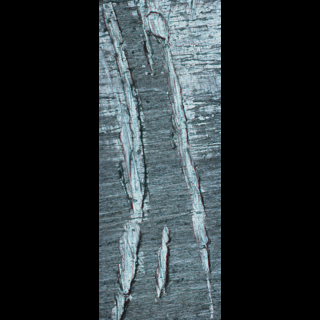d: (128, 0, 219, 318), (99, 0, 149, 319), (151, 221, 174, 300)
